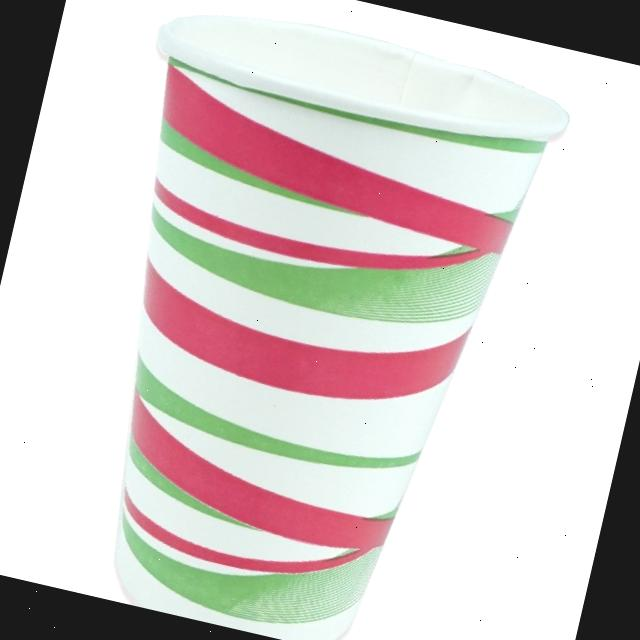trash: (7, 0, 579, 640)
